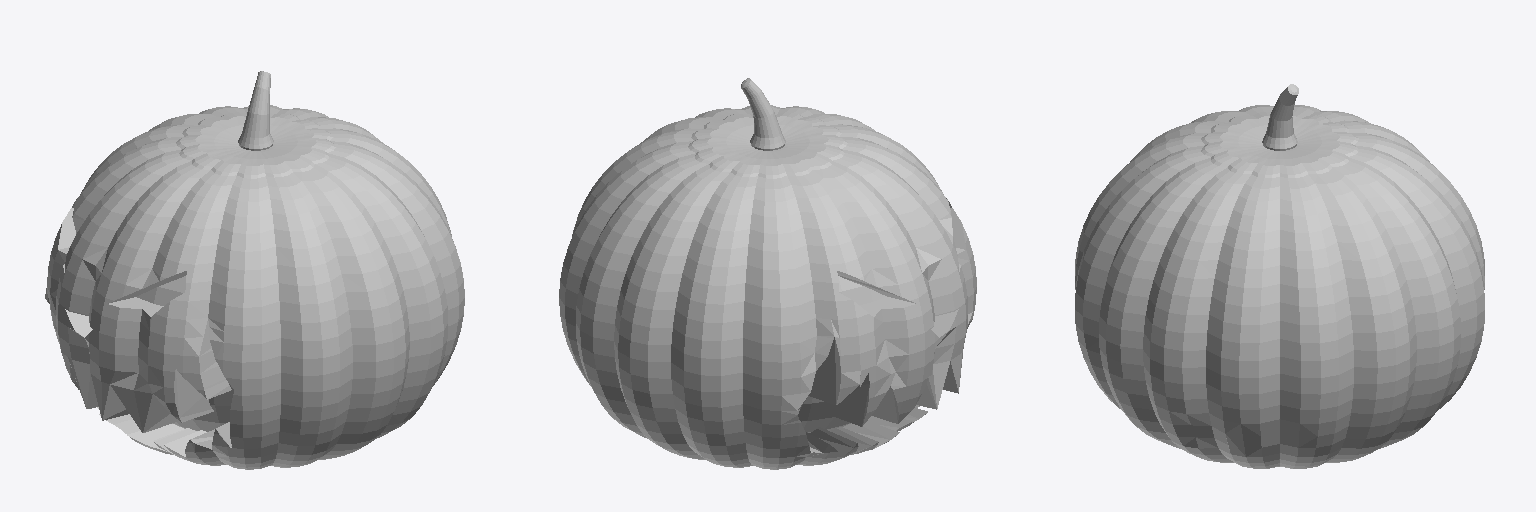
The model's file is pump2.obj.
3 views of the same model, side by side, from view 1: azimuth 30°, elevation 25°; view 2: azimuth 150°, elevation 25°; view 3: azimuth 270°, elevation 25° (orthographic).
Parts seen in each view (by area): view 1: Sphere, Sphere.001, Circle; view 2: Sphere, Sphere.001, Circle; view 3: Sphere, Circle.
Part boxes in pixels (x1,y1,x2,y2): Sphere: (45,105,464,469); Sphere.001: (137,276,233,431); Circle: (238,71,273,150); Sphere: (559,105,976,469); Sphere.001: (798,276,886,432); Circle: (741,78,785,150); Sphere: (1075,105,1484,468); Circle: (1262,84,1298,150).
Size of the model in its own units: 2 by 1.91 by 2.